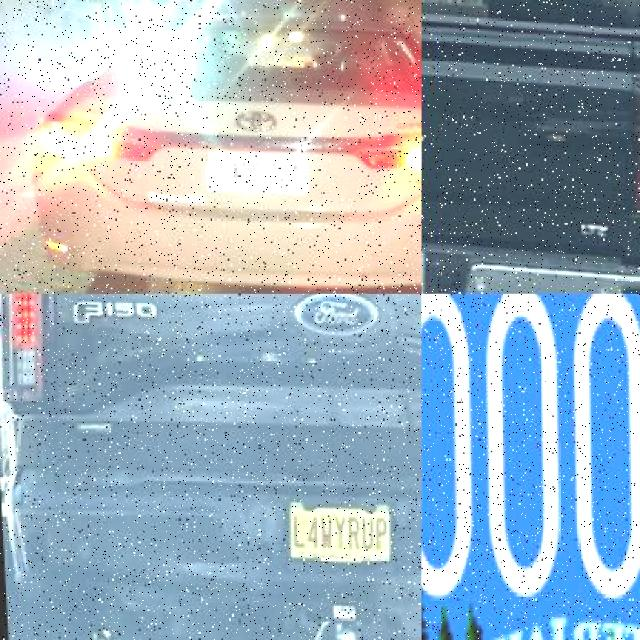licenseplate: (421, 293, 640, 612), (281, 499, 387, 568), (190, 150, 324, 204)
